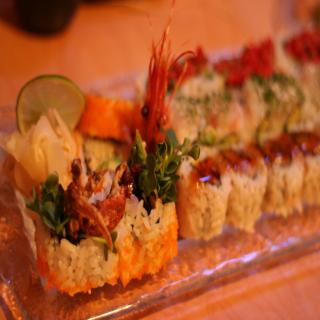Sushi: (35, 61, 320, 292), (172, 154, 230, 237)
